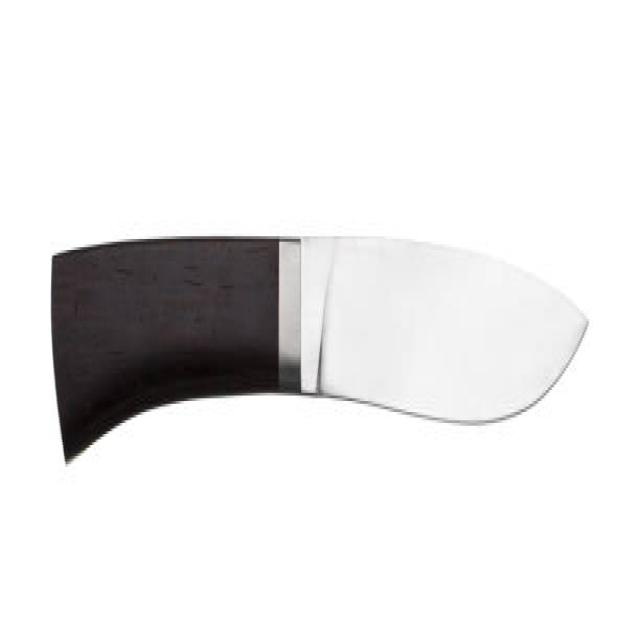knife: (46, 228, 596, 475)
